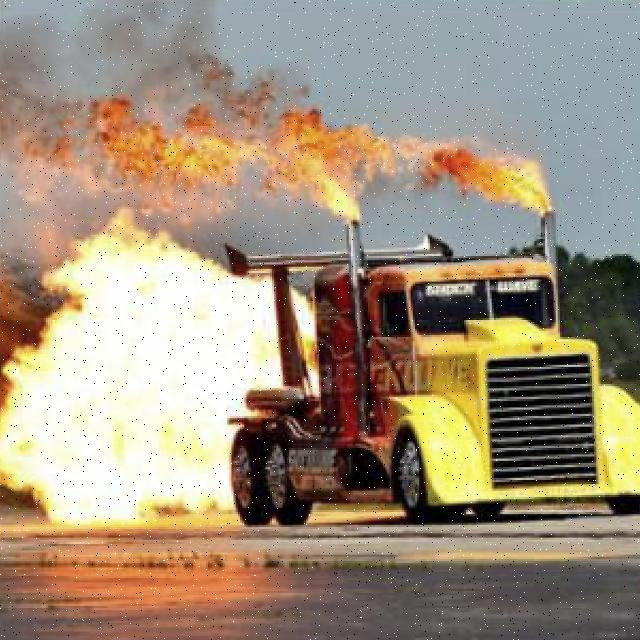fire: (16, 214, 298, 534), (106, 64, 579, 230)
smoke: (16, 2, 231, 117)
